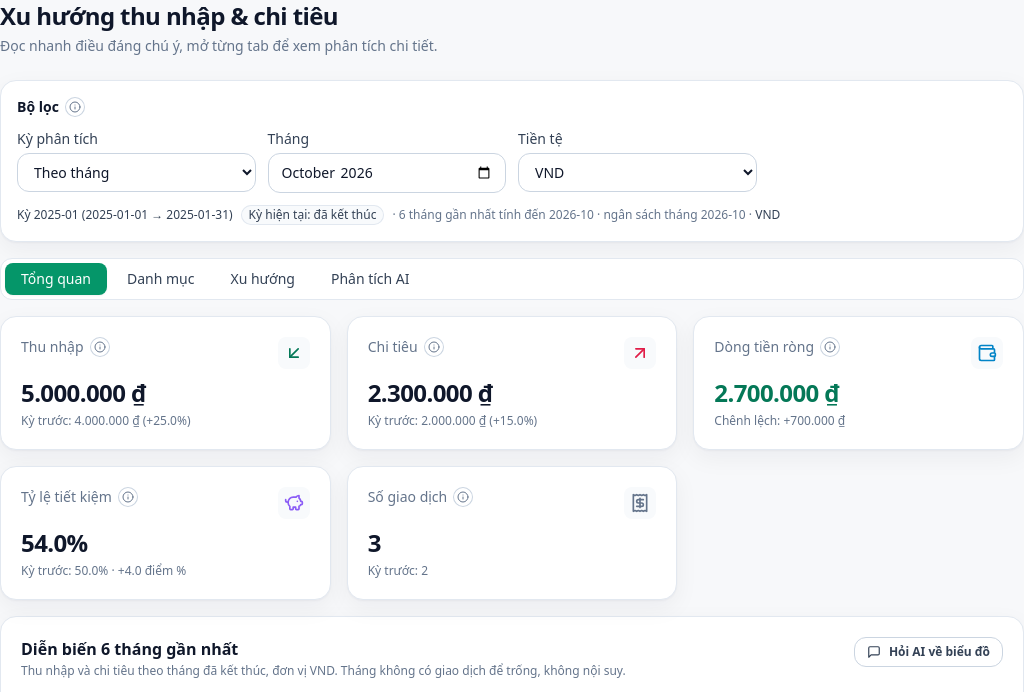
AnalyticsPage — overview › distinguishes "no data" months from measured zero months
This screenshot has width=1024, height=692.
Click the tab "Xu hướng". click: click(263, 279)
box: [214,263,311,295]
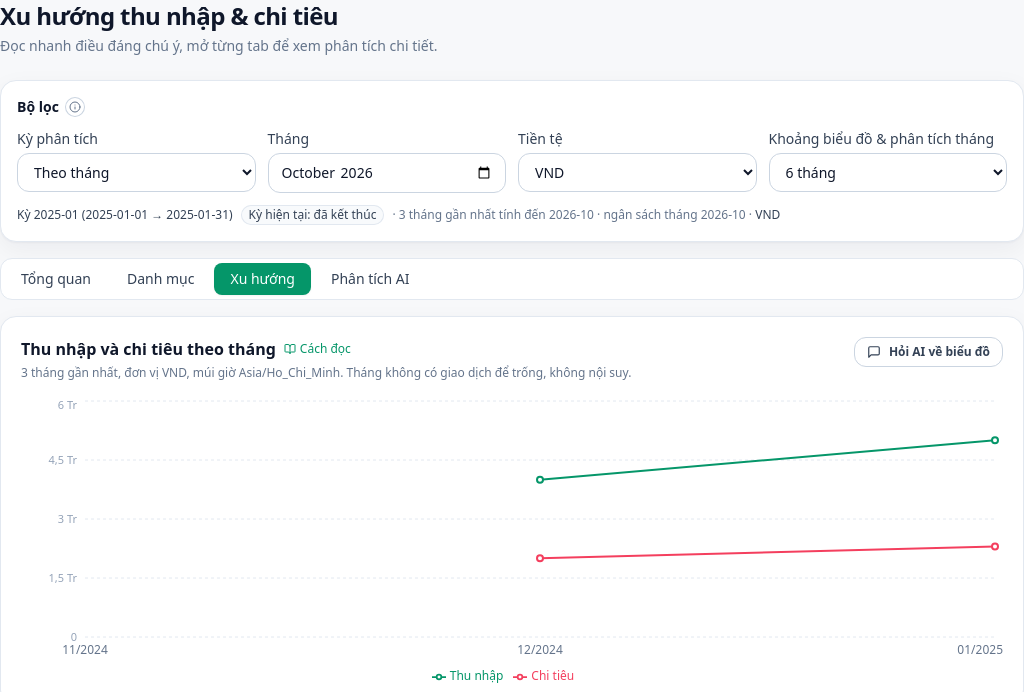
expect the heading "Thu nhập và chi tiêu theo tháng" is shown: met, box [21,337,276,361]
Click the tab "Danh mục". click: click(161, 279)
box: [111,263,210,295]
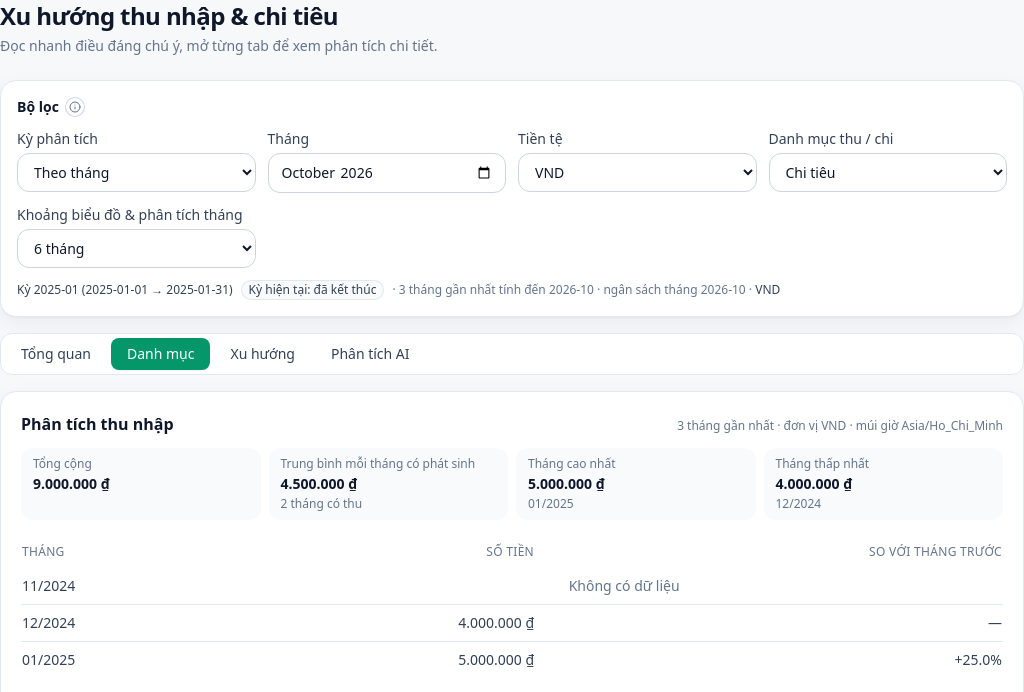
expect the heading "Phân tích thu nhập" is shown: met, box [21,412,174,436]
